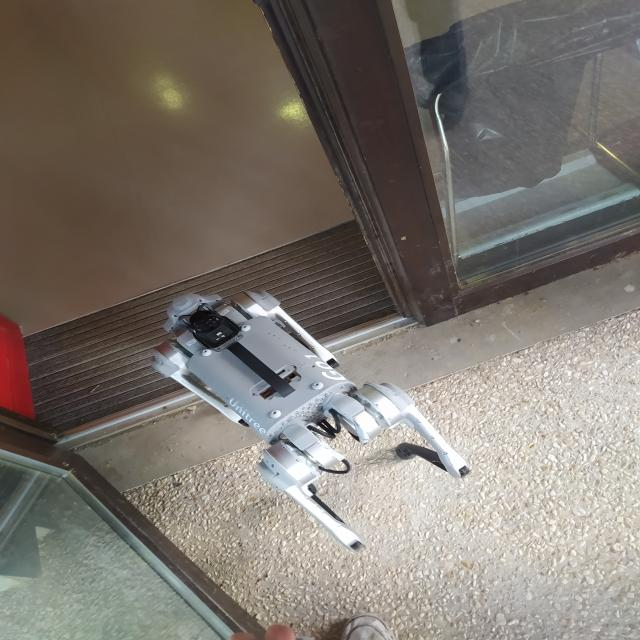unitree-go1-robot: (148, 280, 487, 560)
